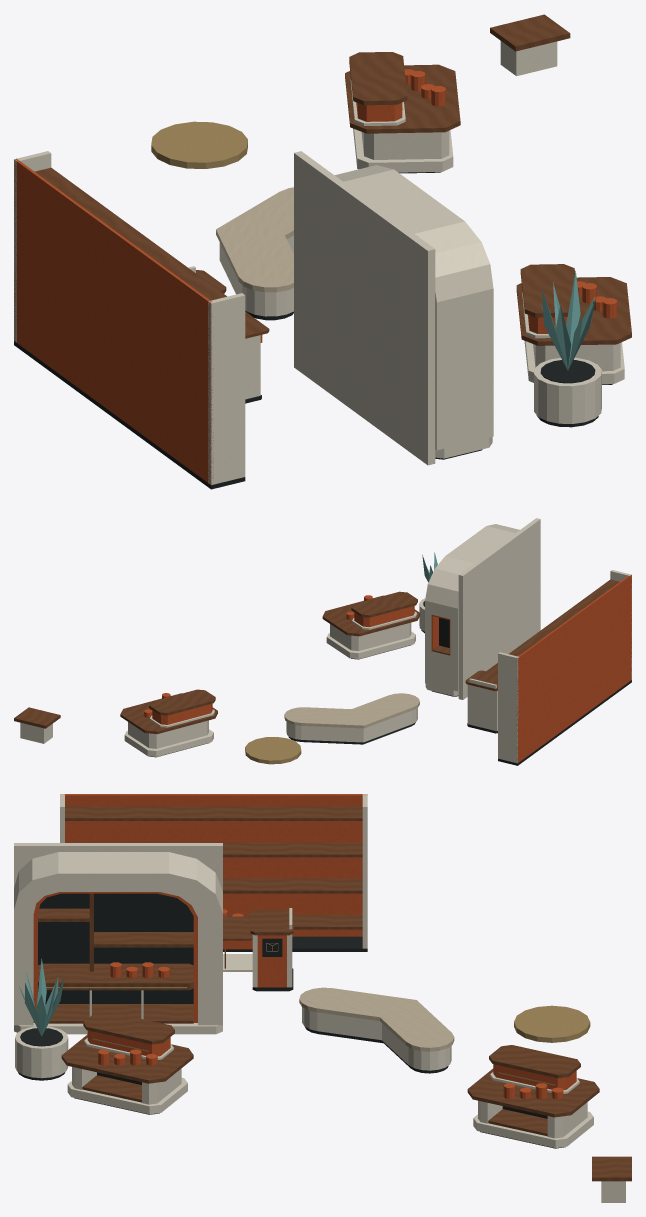
File: SHOP_D09_P100_A132__fitout.glb
3 views of the same model, one above another, from view 1: azimuth 30°, elevation 25°; view 2: azimuth 150°, elevation 25°; view 3: azimuth 270°, elevation 25° (orthographic). The views are drawn at different scales.
Parts seen in each view (by area): view 1: SHOP_D09_P100_A132__fitout__ivory_enamel, SHOP_D09_P100_A132__fitout__retail_terracotta_enamel, SHOP_D09_P100_A132__fitout__warm_walnut, SHOP_D09_P100_A132__fitout__oatmeal_weave, SHOP_D09_P100_A132__fitout__champagne_metal, SHOP_D09_P100_A132__fitout__dark_rubber, SHOP_D09_P100_A132__fitout__quiet_teal; view 2: SHOP_D09_P100_A132__fitout__ivory_enamel, SHOP_D09_P100_A132__fitout__retail_terracotta_enamel, SHOP_D09_P100_A132__fitout__warm_walnut, SHOP_D09_P100_A132__fitout__oatmeal_weave, SHOP_D09_P100_A132__fitout__dark_rubber, SHOP_D09_P100_A132__fitout__champagne_metal; view 3: SHOP_D09_P100_A132__fitout__warm_walnut, SHOP_D09_P100_A132__fitout__ivory_enamel, SHOP_D09_P100_A132__fitout__retail_terracotta_enamel, SHOP_D09_P100_A132__fitout__dark_rubber, SHOP_D09_P100_A132__fitout__oatmeal_weave, SHOP_D09_P100_A132__fitout__champagne_metal, SHOP_D09_P100_A132__fitout__quiet_teal.
Part boxes in pixels (box(x1,y1,x2,y2)): SHOP_D09_P100_A132__fitout__ivory_enamel: box(14, 41, 624, 485); SHOP_D09_P100_A132__fitout__retail_terracotta_enamel: box(14, 69, 617, 484); SHOP_D09_P100_A132__fitout__warm_walnut: box(35, 14, 631, 345); SHOP_D09_P100_A132__fitout__oatmeal_weave: box(216, 187, 293, 292); SHOP_D09_P100_A132__fitout__champagne_metal: box(151, 107, 402, 168); SHOP_D09_P100_A132__fitout__dark_rubber: box(14, 172, 612, 489); SHOP_D09_P100_A132__fitout__quiet_teal: box(540, 270, 596, 370); SHOP_D09_P100_A132__fitout__ivory_enamel: box(20, 518, 631, 763); SHOP_D09_P100_A132__fitout__retail_terracotta_enamel: box(144, 575, 631, 762); SHOP_D09_P100_A132__fitout__warm_walnut: box(14, 579, 619, 733); SHOP_D09_P100_A132__fitout__oatmeal_weave: box(284, 693, 419, 728); SHOP_D09_P100_A132__fitout__dark_rubber: box(149, 601, 631, 765); SHOP_D09_P100_A132__fitout__champagne_metal: box(245, 737, 301, 764); SHOP_D09_P100_A132__fitout__warm_walnut: box(38, 806, 631, 1181); SHOP_D09_P100_A132__fitout__ivory_enamel: box(14, 794, 625, 1202); SHOP_D09_P100_A132__fitout__retail_terracotta_enamel: box(33, 794, 576, 1099); SHOP_D09_P100_A132__fitout__dark_rubber: box(18, 893, 565, 1148); SHOP_D09_P100_A132__fitout__oatmeal_weave: box(299, 987, 454, 1051); SHOP_D09_P100_A132__fitout__champagne_metal: box(46, 943, 590, 1085); SHOP_D09_P100_A132__fitout__quiet_teal: box(19, 958, 64, 1036).
Size of the model in its own units: 10.25 by 3 by 10.05.
Materials: 7 (6 with a texture image).
